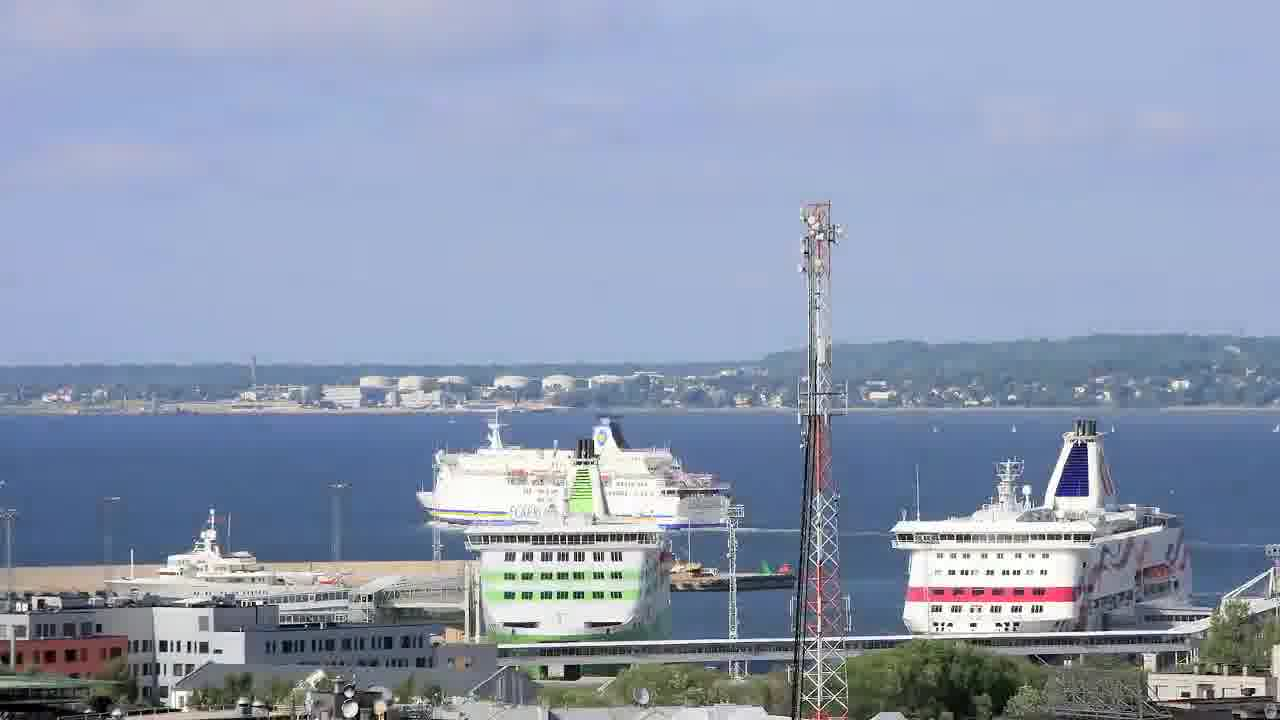type-3: (868, 415, 1225, 638), (436, 434, 694, 670), (412, 396, 753, 544), (86, 508, 351, 614)
